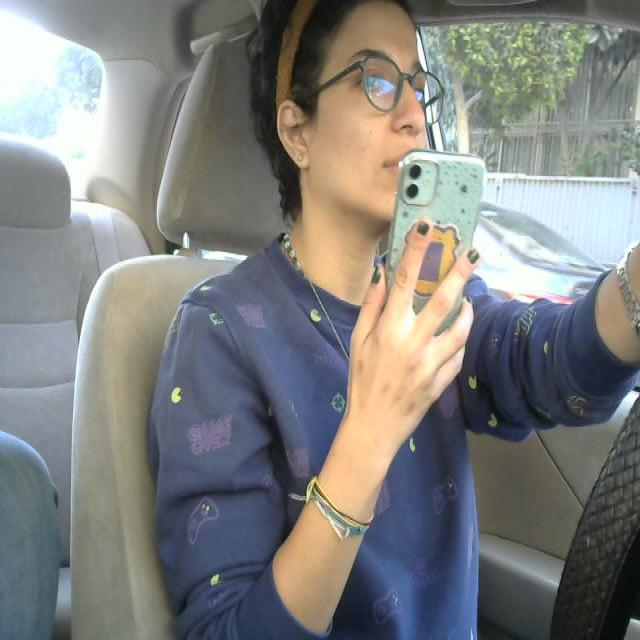mobile use: (387, 142, 486, 376)
